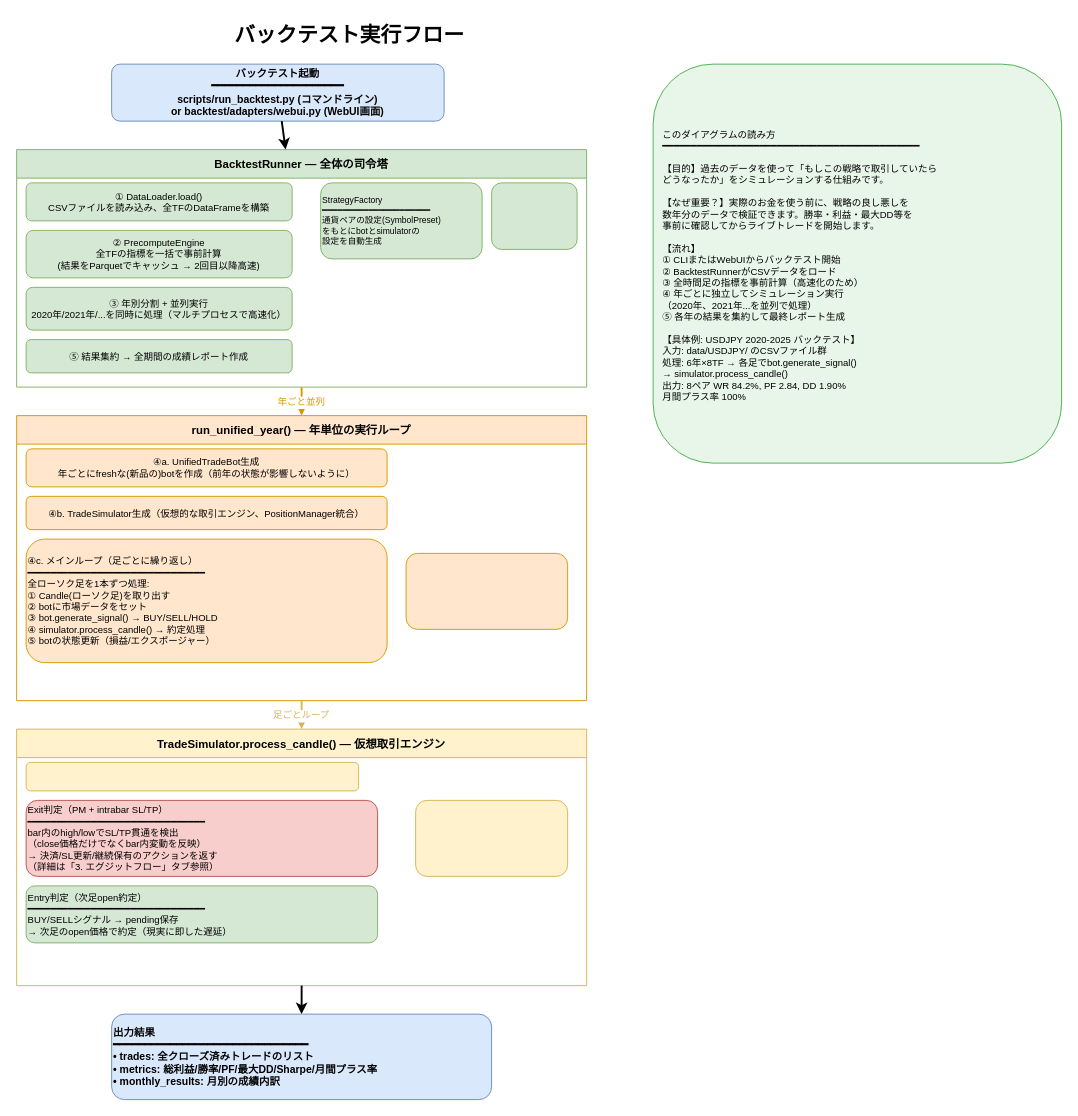
The diagram is 1078 pixels wide and 1116 high, and some of its shapes have lost their labels. The centre of each missing label's shape, as x and y in pixels:
"MetricsCalculator ━━━━━━━━━━━━━━━━━━━━━ 勝率/PF/Sharpe/DD/ 月間勝率を計算" belongs at (534,215).
"MFE/MAE更新（含み益の最大/含み損の最大を記録）" belongs at (192,776).
"エクスポージャー追跡 ━━━━━━━━━━━━━━━━━━━━━ 今どれだけポジションを 持っているか常に追跡 （リスク管理に使用）" belongs at (486,590).
"スプレッドモデル ━━━━━━━━━━━━━━━━━━━ 実スプレッドデータ(CSV) または固定スプレッドで 取引コストをシミュレーション" belongs at (491,837).
